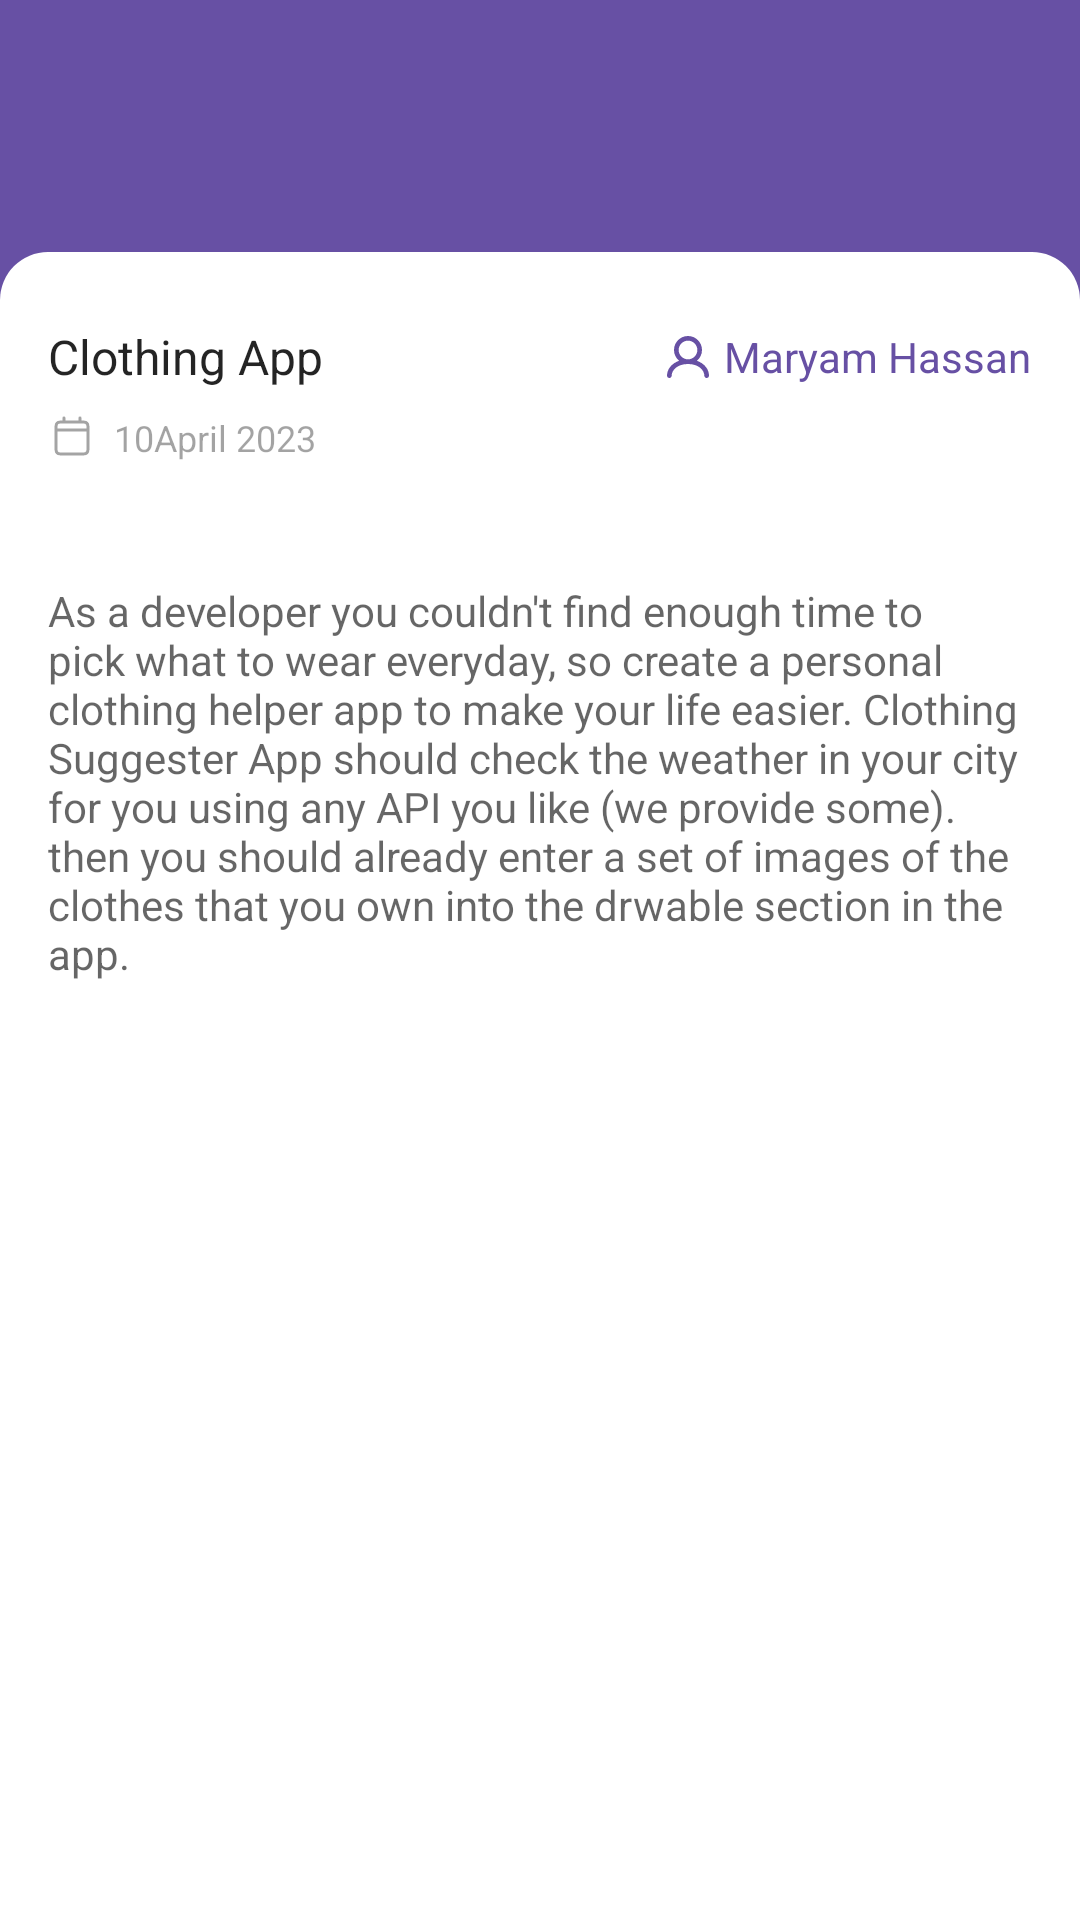

Where icons sit on this 1080 x 1920 app screen, as (x1, y1, x2, y2):
calendar: (54, 416, 90, 456)
user: (667, 336, 709, 378)
